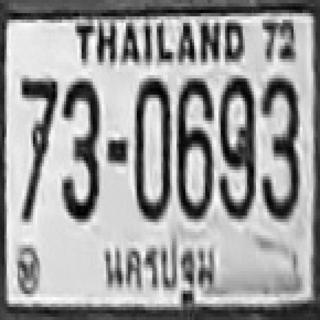N00: (132, 75, 170, 219)
N03: (60, 75, 99, 219), (260, 75, 298, 216)
N06: (174, 75, 212, 216)
N07: (19, 75, 56, 219), (20, 73, 55, 175)
N09: (219, 75, 254, 216)
P28: (103, 223, 219, 315)
